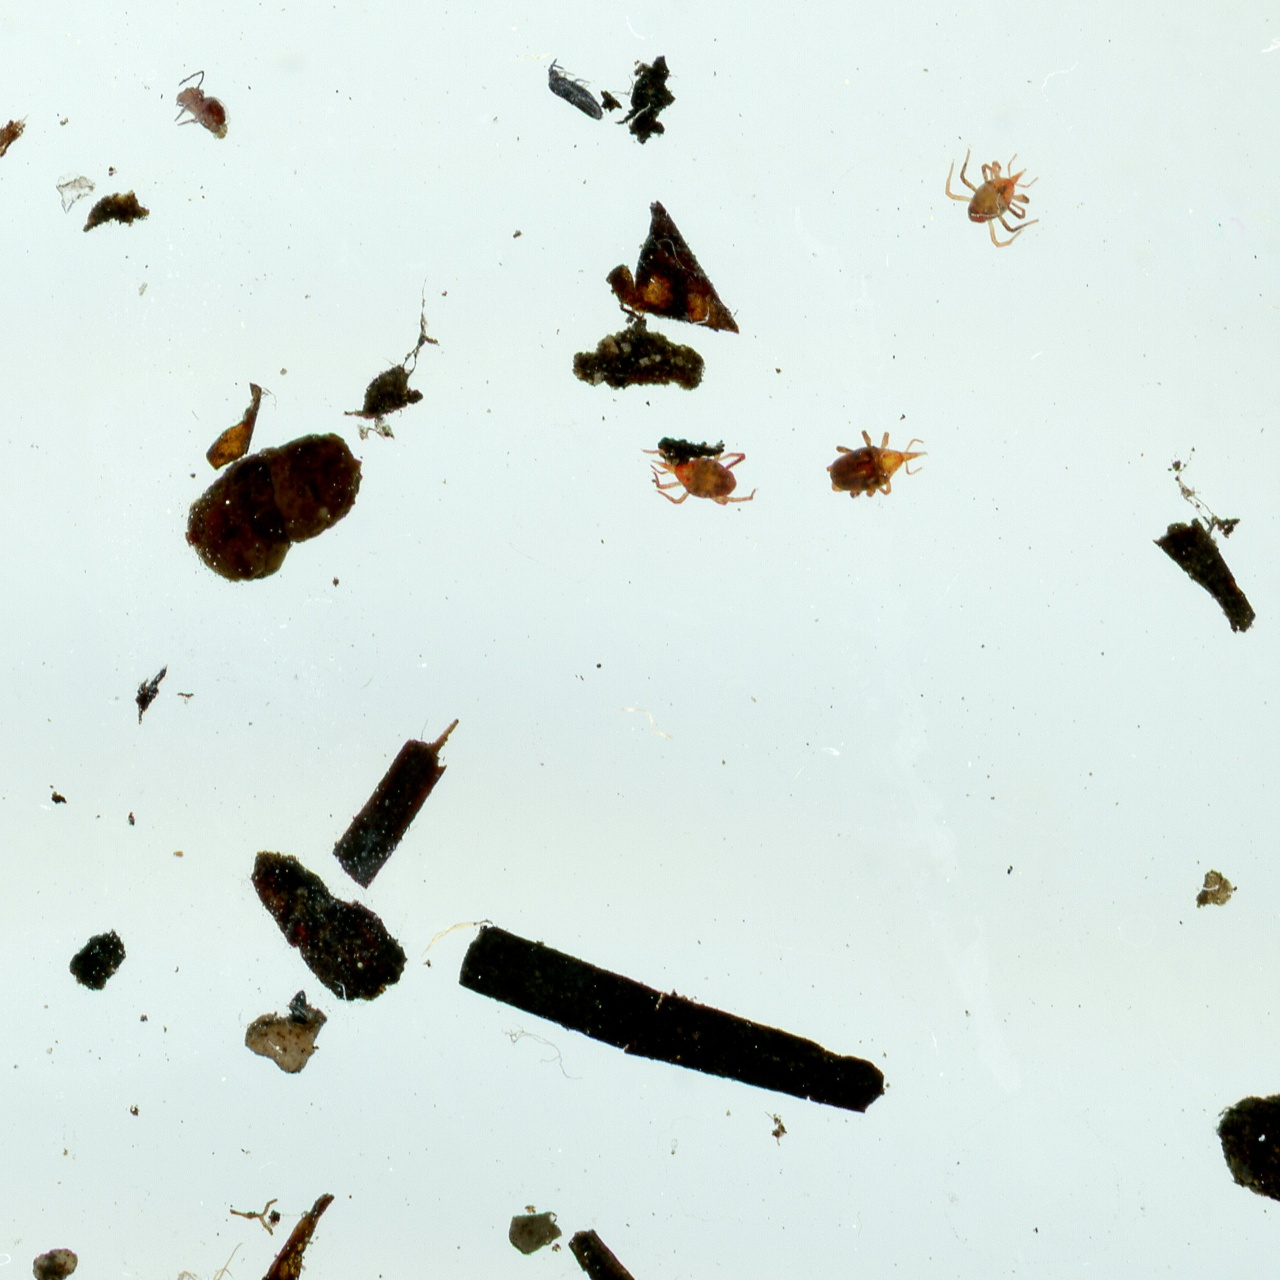arthropod: (938, 141, 1046, 253), (627, 433, 758, 509), (815, 433, 933, 501), (169, 64, 238, 152), (545, 50, 613, 128), (14, 1262, 241, 1280)
